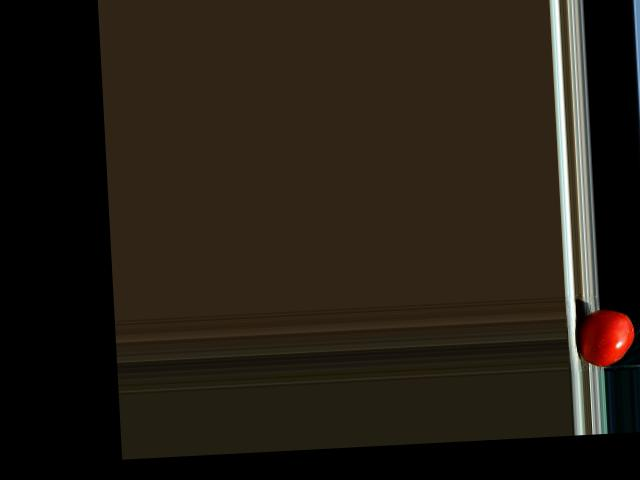tomato: (577, 308, 636, 367)
